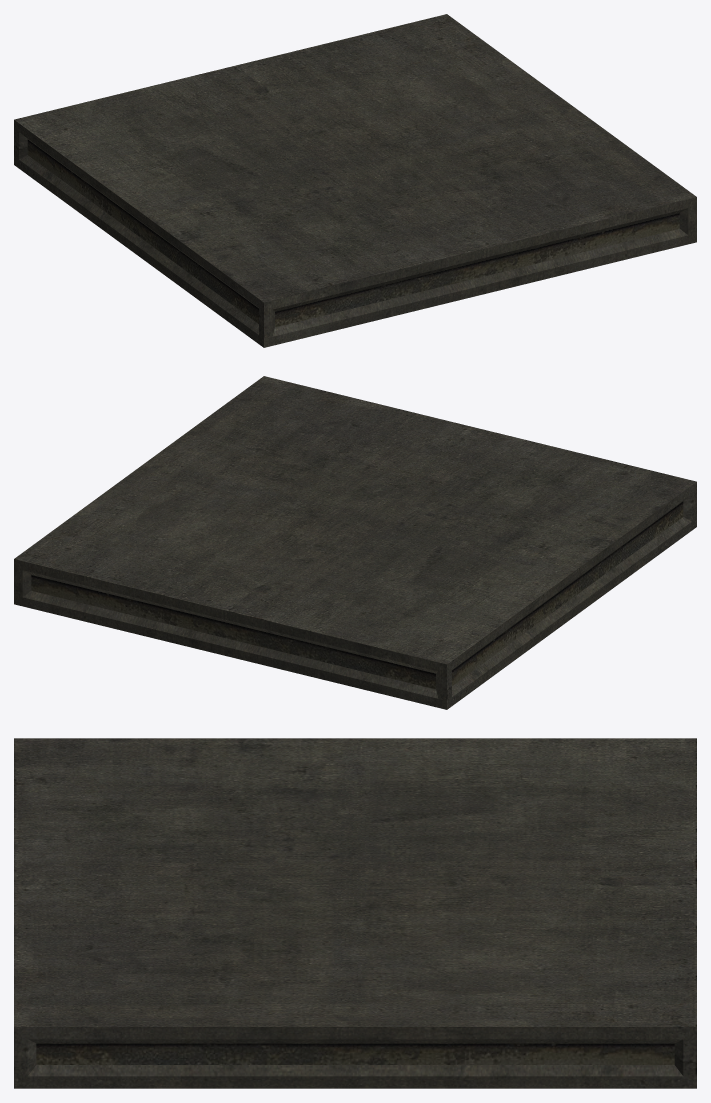
The model's file is floor_ceiling_hr_3.obj.
The picture shows the model from 3 angles, top to bottom: view 1: azimuth 30°, elevation 25°; view 2: azimuth 150°, elevation 25°; view 3: azimuth 270°, elevation 25°; orthographic projection. The views are drawn at different scales.
Parts seen in each view (by area): view 1: floor_ceiling_hr_3; view 2: floor_ceiling_hr_3; view 3: floor_ceiling_hr_3.
Boxes of the visible parts, box(x1,y1,x2,y2) form: floor_ceiling_hr_3: box(14, 14, 696, 347); floor_ceiling_hr_3: box(14, 376, 696, 709); floor_ceiling_hr_3: box(14, 738, 696, 1088).
Bounding box in the file's own units: 4 × 0.4 × 4.
